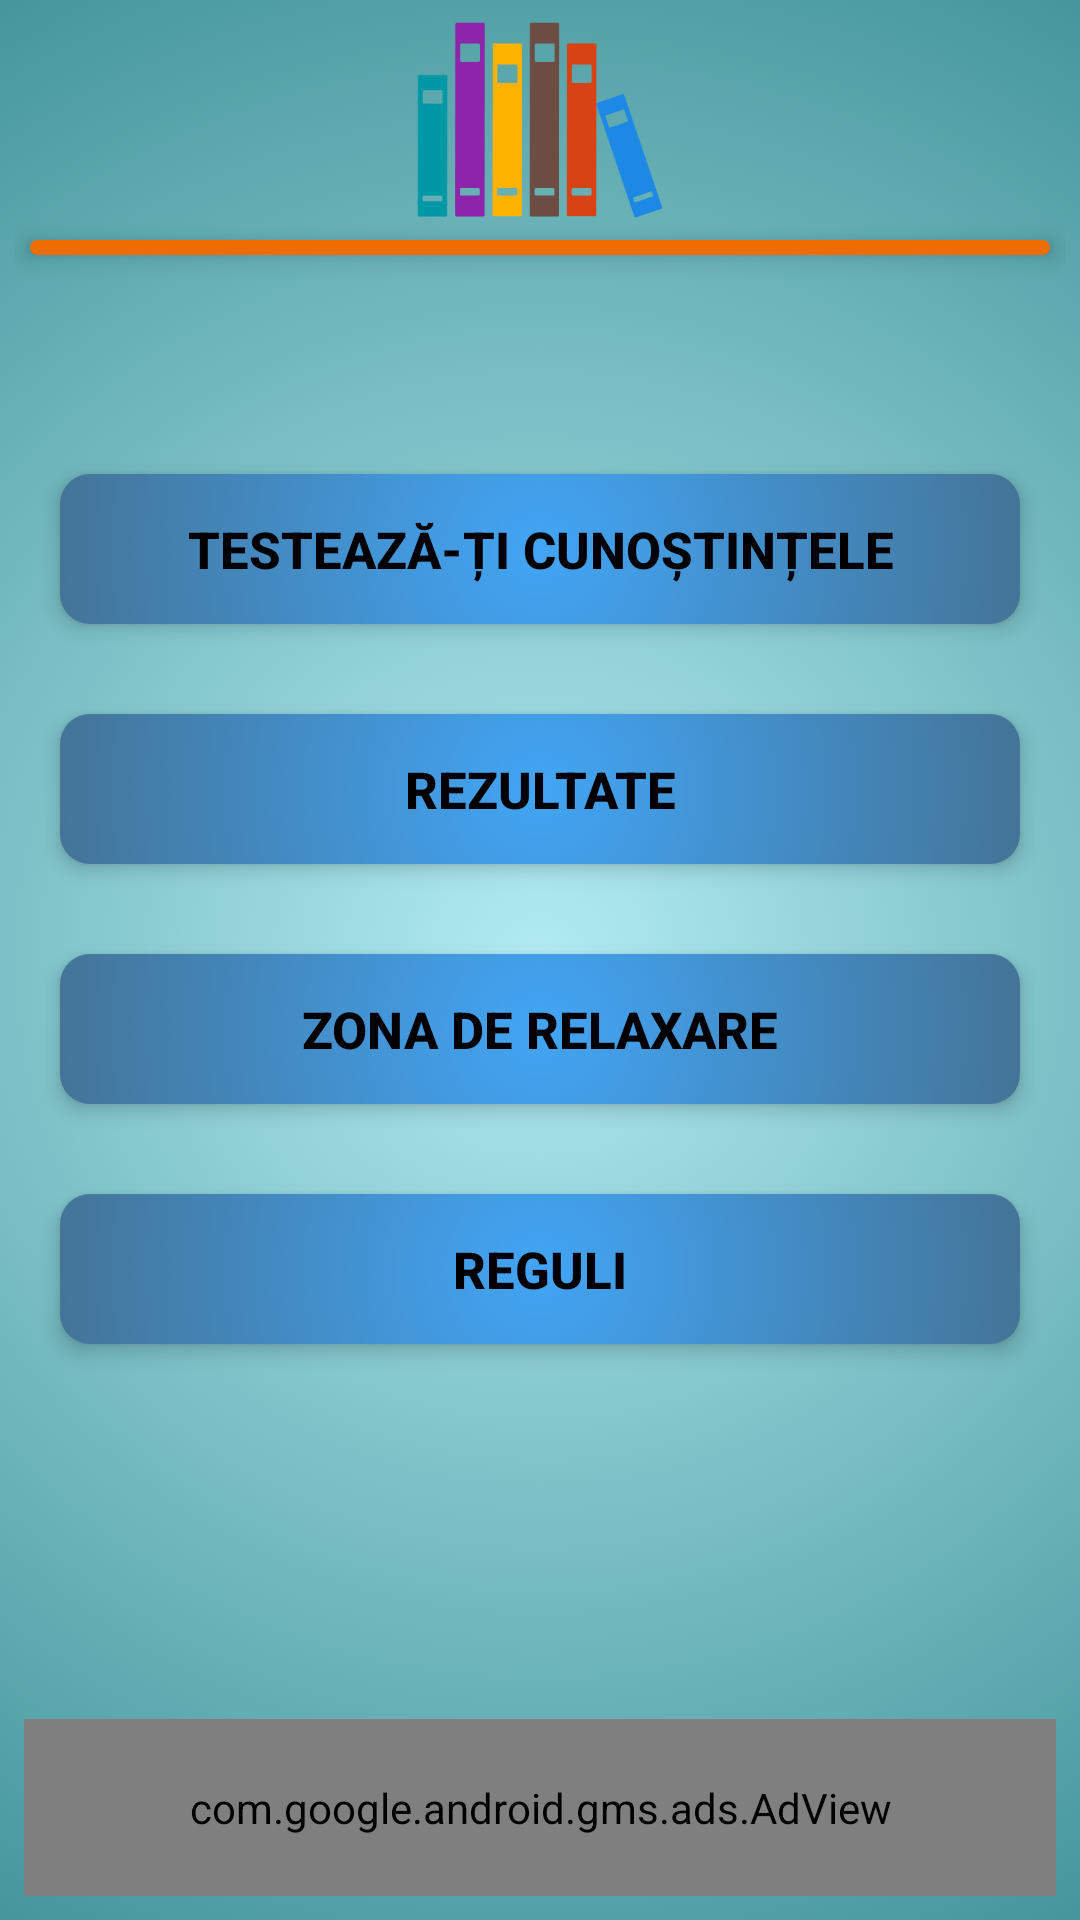

Screen size 1080 x 1920. Icon name, then its center in pixels as (x,y):
graphic book: (540,120)
